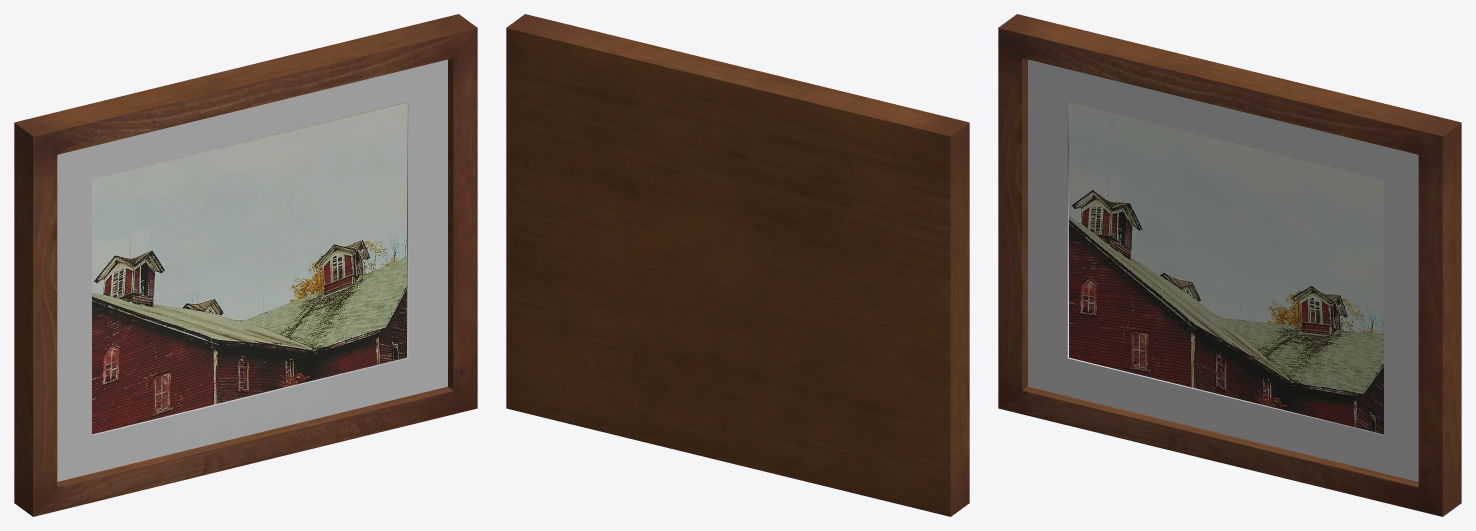
Rendered from abo-B075YLJMBL.glb.
The picture shows the model from 3 angles, left to right: view 1: azimuth 30°, elevation 25°; view 2: azimuth 150°, elevation 25°; view 3: azimuth 330°, elevation 25°; orthographic projection.
Bounding box in the file's own units: 0.401 × 0.328 × 0.03.
1 material, 1 textured.
